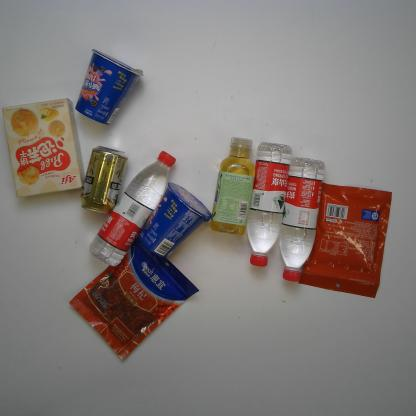Alcohol: (78, 139, 129, 213)
Dessert: (2, 96, 82, 200), (136, 180, 216, 261), (72, 46, 146, 127)
Dried Fruit: (66, 238, 203, 363), (295, 182, 393, 299)
Drink: (89, 148, 179, 267), (269, 151, 328, 281), (241, 140, 296, 266), (208, 130, 258, 236)
